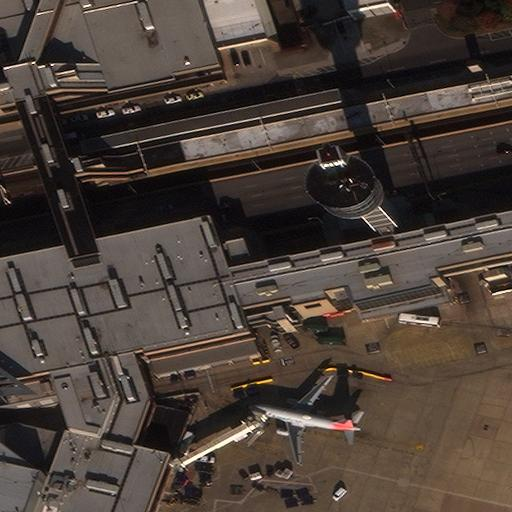Medium Civil Transport: (247, 375, 361, 464)
